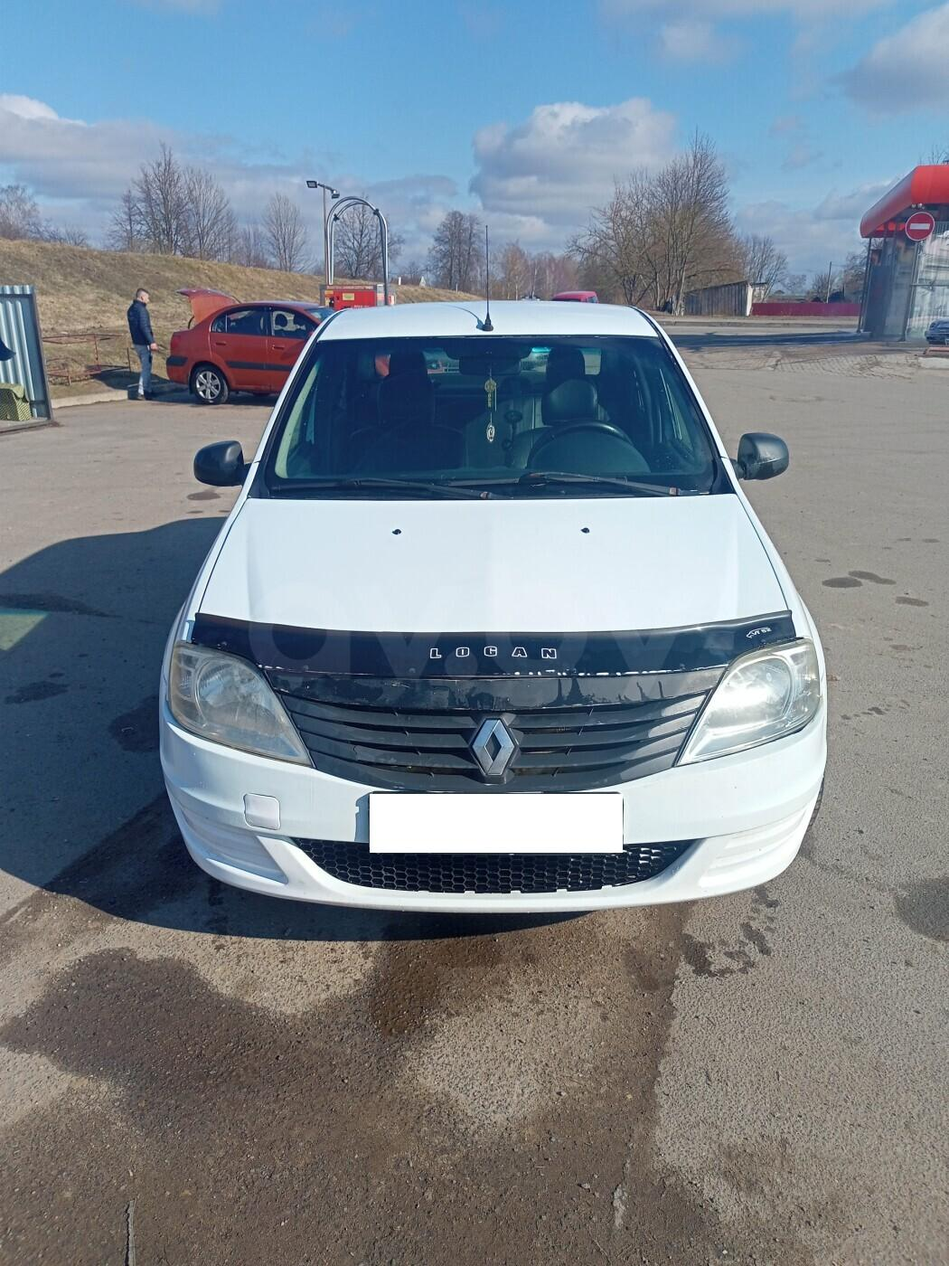Logan_2008-2015: (155, 298, 835, 950)
